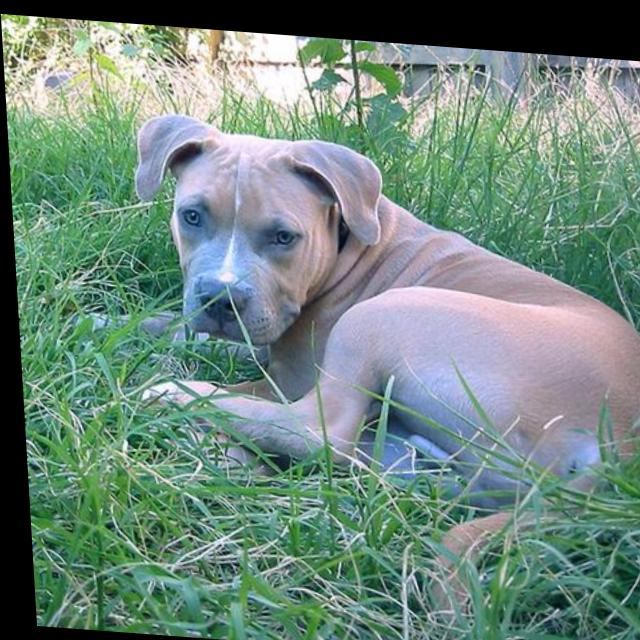amstaff: (66, 104, 640, 626)
